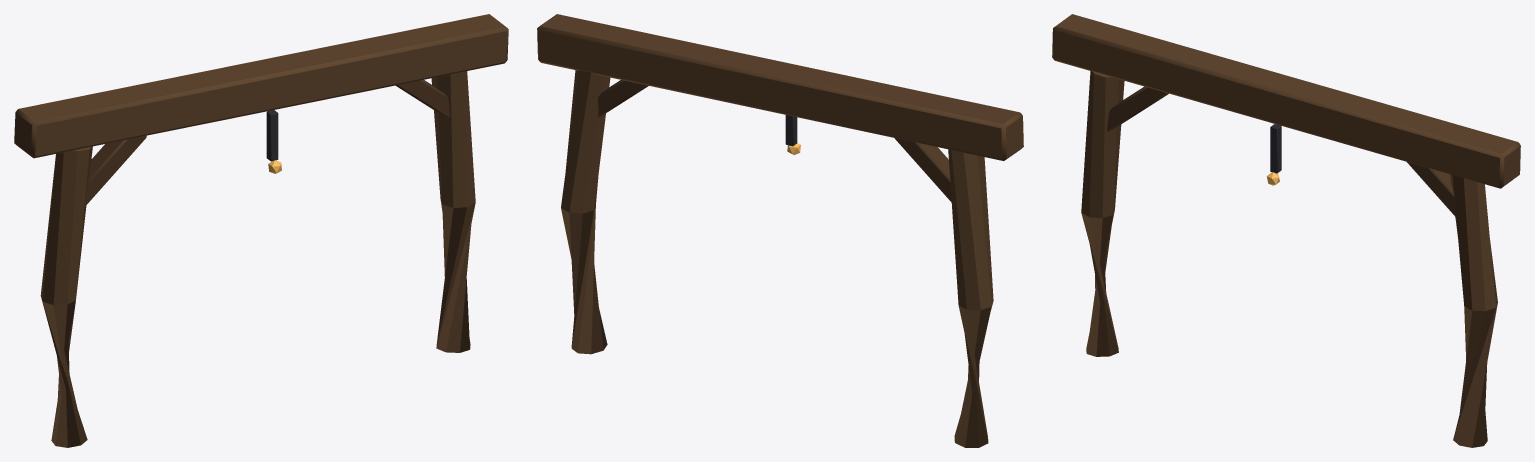
File: mine_timber.glb
3 renders of one model, left to right at view 1: azimuth 30°, elevation 25°; view 2: azimuth 150°, elevation 25°; view 3: azimuth 330°, elevation 25°, orthographic. The views are drawn at different scales.
Parts seen in each view (by area): view 1: mine_timber; view 2: mine_timber; view 3: mine_timber.
Part boxes in pixels (<box>): mine_timber: <box>14,14,508,447</box>; mine_timber: <box>537,14,1023,447</box>; mine_timber: <box>1052,14,1520,447</box>.
Size of the model in its own units: 8.42 by 5.68 by 0.9021.
